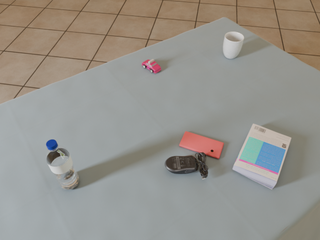book: (233, 124, 291, 189)
bottle: (46, 140, 79, 190)
cup: (223, 32, 244, 59)
mouse: (165, 152, 208, 179)
phone: (179, 131, 224, 159)
toy_car: (142, 59, 161, 73)
